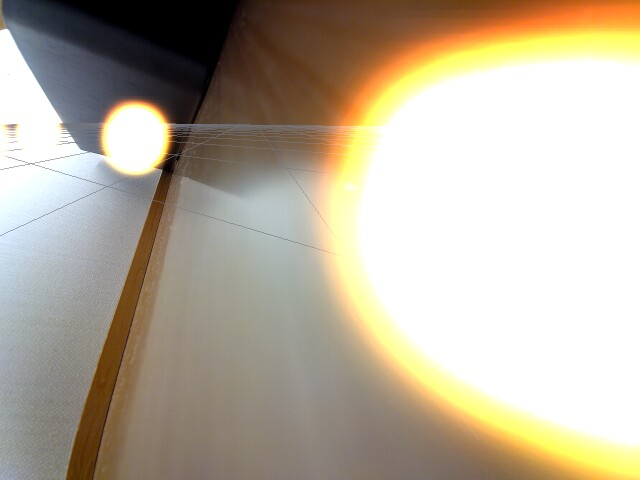firebig: (285, 1, 640, 479)
